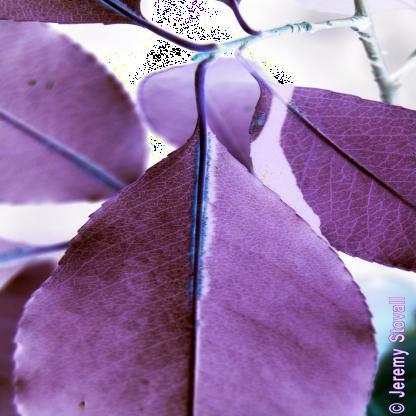Cherry leaf: (14, 125, 383, 416)
